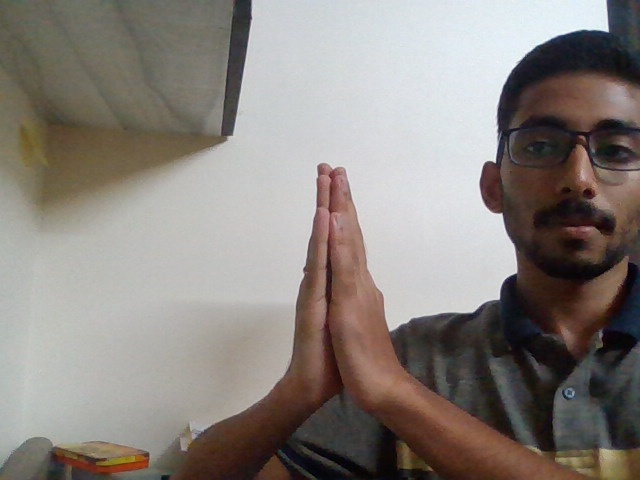Thank You: (262, 130, 421, 452)
